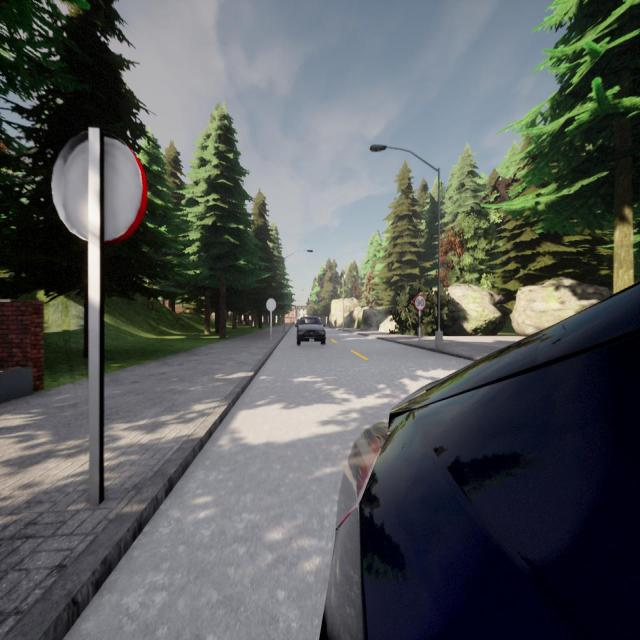Traffic_Signs: (48, 131, 144, 242), (414, 294, 426, 310), (266, 298, 277, 312)
Vehicle: (322, 283, 640, 638), (294, 316, 326, 346)
